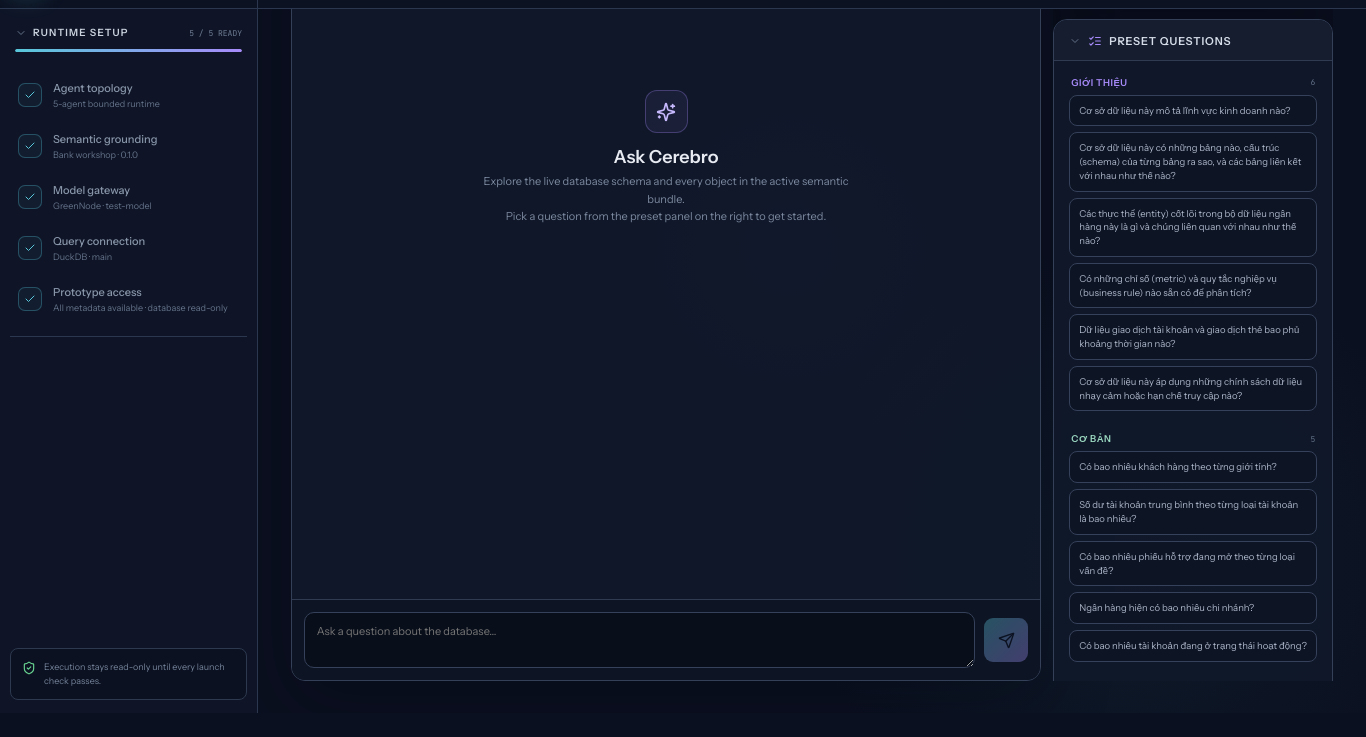
Test: workspace navigation › submits a governed database question and renders SQL, results, and evidence
The image size is (1366, 737).
(page scrolled)
Type "How many customers are there by gender?" into the text box named "Ask about the database".
click(640, 640); type("How many customers are there by gender?")  # box [304,612,975,668]
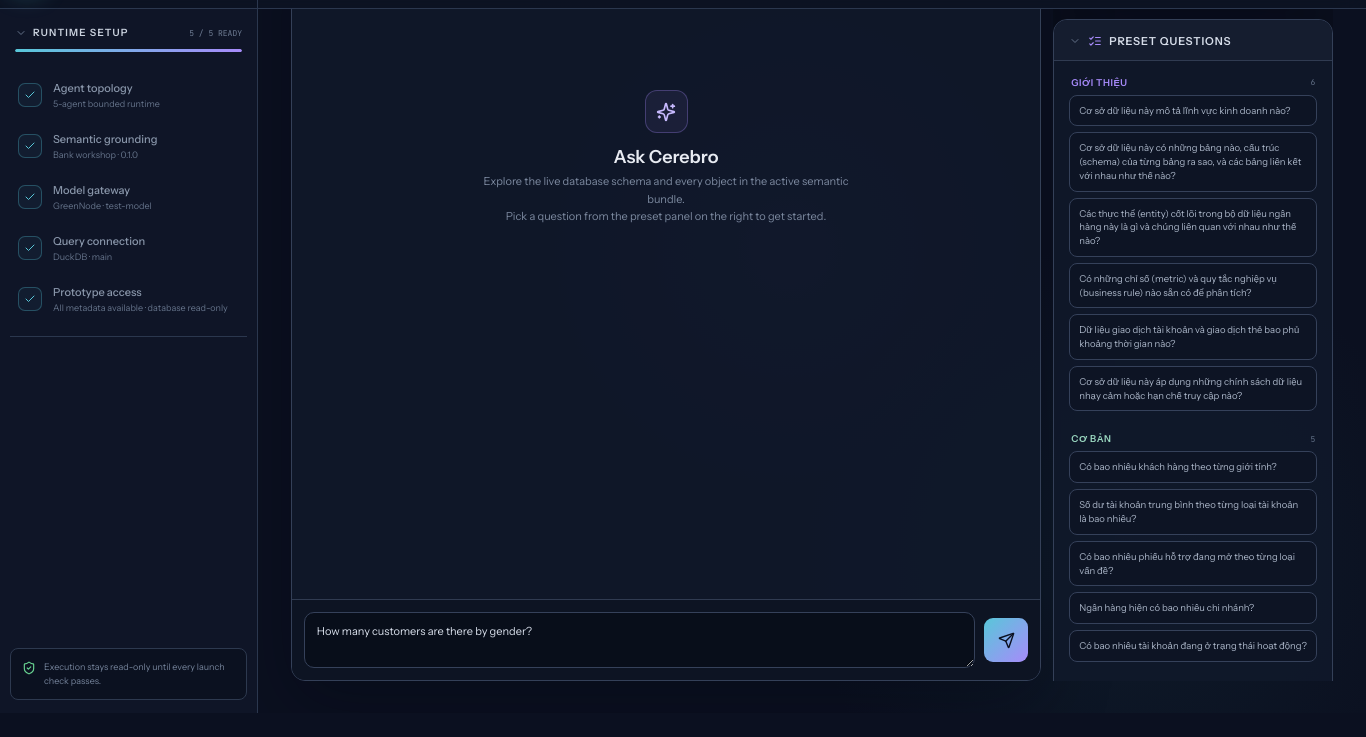
Click the button named "Send question".
click(1006, 640)  # box [984,618,1028,662]
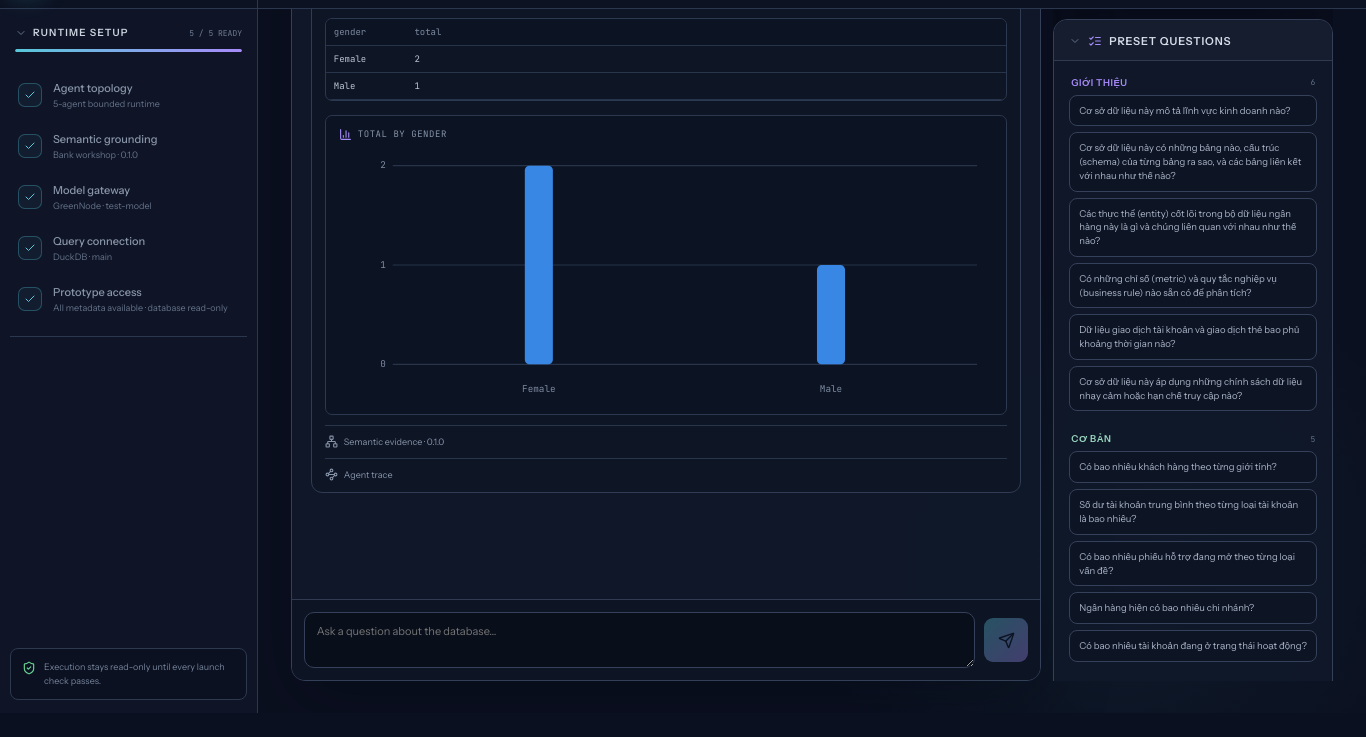
Expected: the table is shown, [326,19,1006,100]
Expected: the text "Female" is shown, [326,45,406,72]
Expected: the element with class "result-chart" is shown, [325,115,1007,415]
